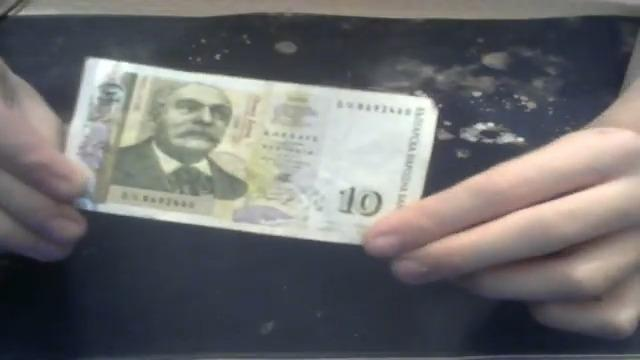10leva: (101, 80, 253, 202), (325, 178, 389, 222), (86, 75, 120, 119)
